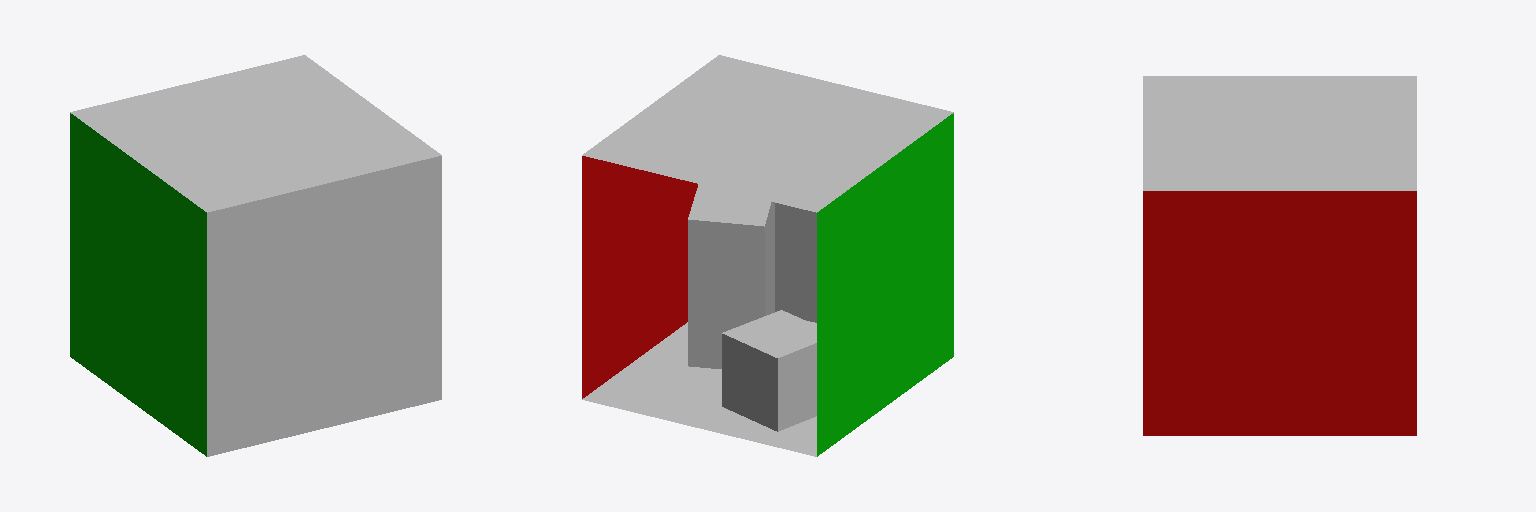
File: CornellBox.obj
The picture shows the model from 3 angles: view 1: azimuth 30°, elevation 25°; view 2: azimuth 150°, elevation 25°; view 3: azimuth 270°, elevation 25°; orthographic projection.
Visible parts, largest first — view 1: CornellBox:pPlane5, CornellBox:pPlane3, CornellBox:pPlane6; view 2: CornellBox:pPlane3, CornellBox:pPlane6, CornellBox:pPlane4, CornellBox:pCube2, CornellBox:pPlane1, CornellBox:pCube1, CornellBox:pPlane5; view 3: CornellBox:pPlane4, CornellBox:pPlane6.
Part boxes in pixels (bbox=[...]): CornellBox:pPlane5: bbox=[207, 156, 441, 456]; CornellBox:pPlane3: bbox=[70, 113, 206, 456]; CornellBox:pPlane6: bbox=[70, 55, 441, 212]; CornellBox:pPlane3: bbox=[817, 113, 953, 456]; CornellBox:pPlane6: bbox=[582, 55, 953, 212]; CornellBox:pPlane4: bbox=[582, 156, 697, 398]; CornellBox:pCube2: bbox=[688, 184, 774, 368]; CornellBox:pPlane1: bbox=[582, 320, 816, 456]; CornellBox:pCube1: bbox=[722, 310, 816, 431]; CornellBox:pPlane5: bbox=[775, 203, 816, 322]; CornellBox:pPlane4: bbox=[1143, 191, 1416, 435]; CornellBox:pPlane6: bbox=[1143, 76, 1416, 190].
Size of the model in its own units: 553 by 549 by 559.